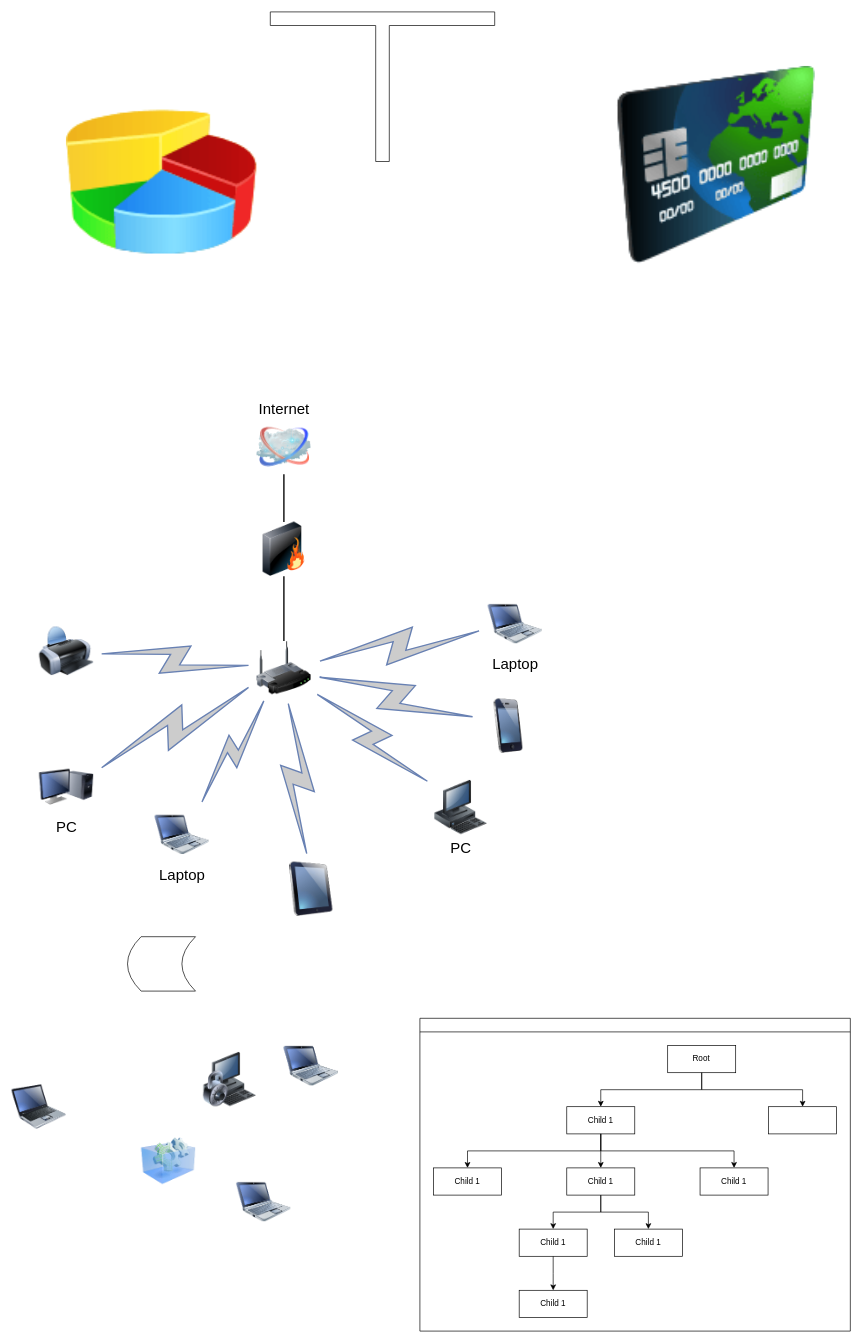
The diagram is 862 pixels wide and 1343 high, and some of its shapes have lost their labels. Here are the shapes that lost their labels. From the top down, the box of each, then its label:
(270, 11, 495, 162): Text
(256, 522, 311, 576): Firewall
(39, 624, 93, 678): Printer
(481, 698, 535, 753): Mobile
(284, 862, 338, 916): Tablet
(768, 1106, 837, 1134): Child 2
(419, 1018, 850, 1331): Vertical Tree Layout
